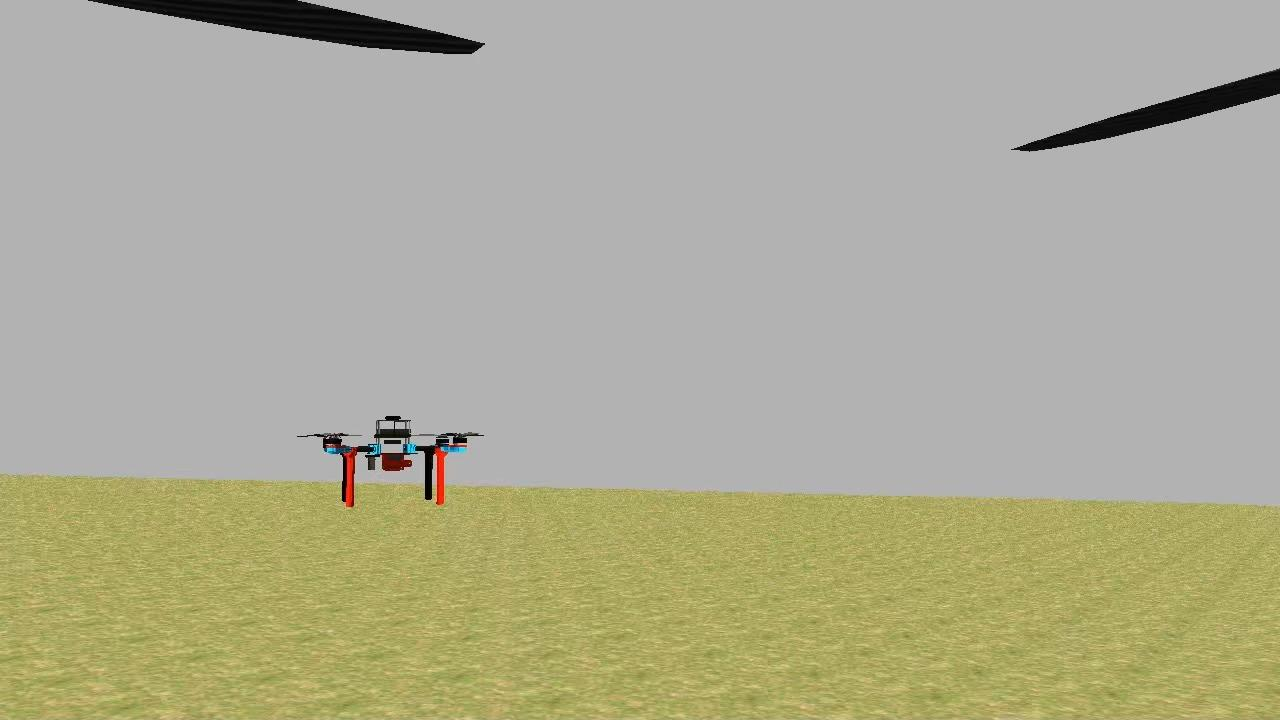UAV: (318, 410, 478, 514)
